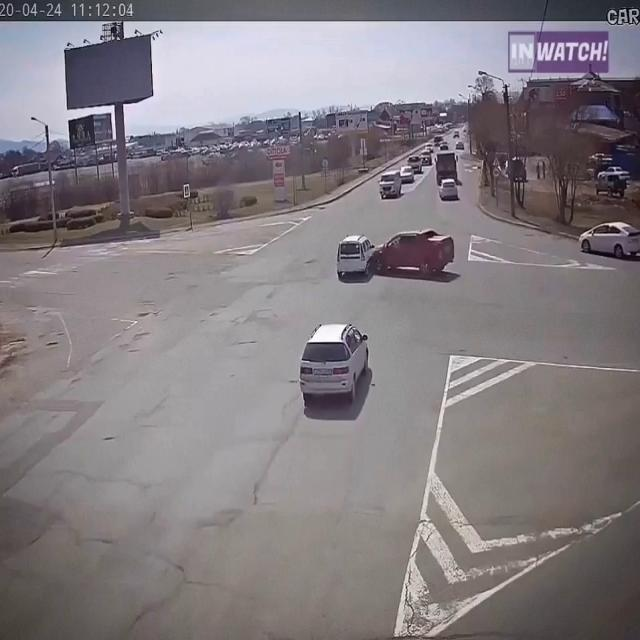accident: (337, 228, 456, 284)
